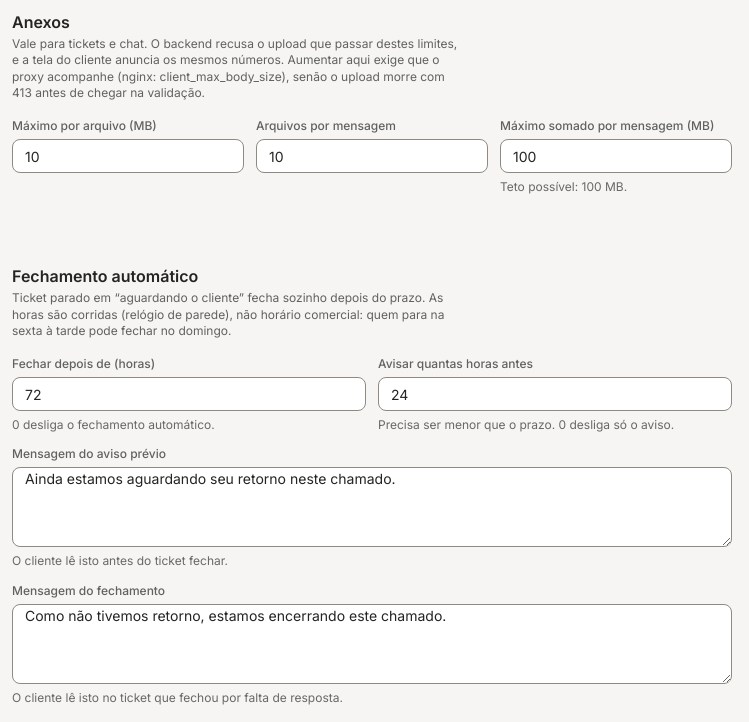
Scenario: AbaSistema › desliga o aviso junto com o fechamento automático
Replace the text in the number field labelled "Fechar depois de (horas)" with "0": (189, 394) [12,377,366,411]
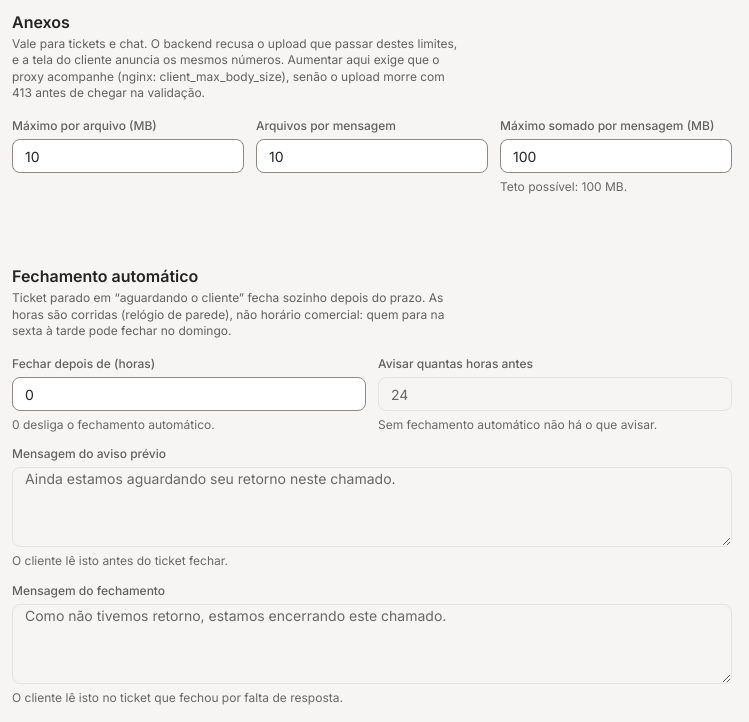
Check: the number field labelled "Avisar quantas horas antes" is disabled, box [378,377,732,411]
Check: the text box labelled "Mensagem do fechamento" is disabled, box [12,604,732,684]
Check: the text box labelled "Mensagem do aviso prévio" is disabled, box [12,468,732,548]
